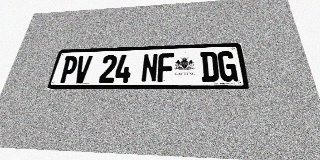2: (99, 55, 118, 83)
4: (114, 54, 133, 83)
D: (200, 51, 219, 82)
F: (157, 53, 174, 82)
G: (217, 51, 238, 82)
N: (141, 53, 158, 82)
P: (58, 56, 79, 83)
V: (73, 55, 93, 83)
